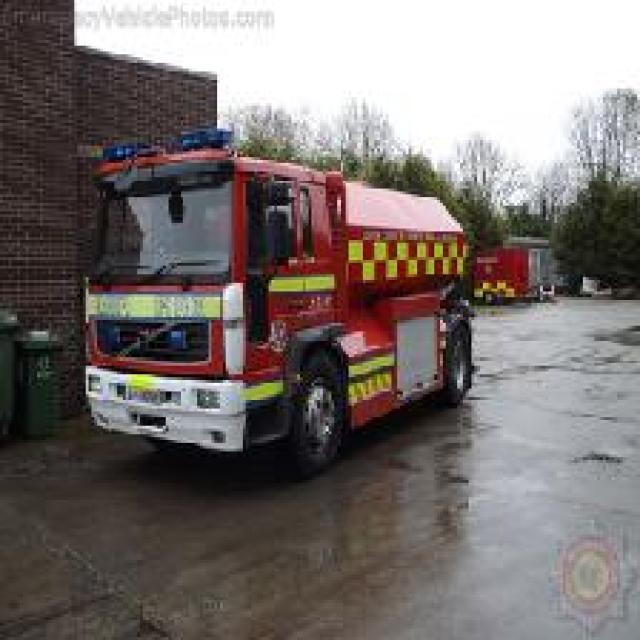Fire-truck: (77, 123, 477, 477)
